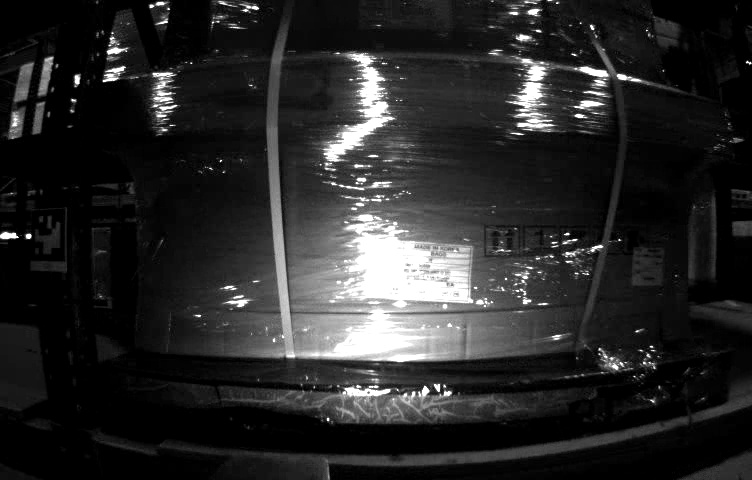True Barcode: (631, 246, 668, 289)
